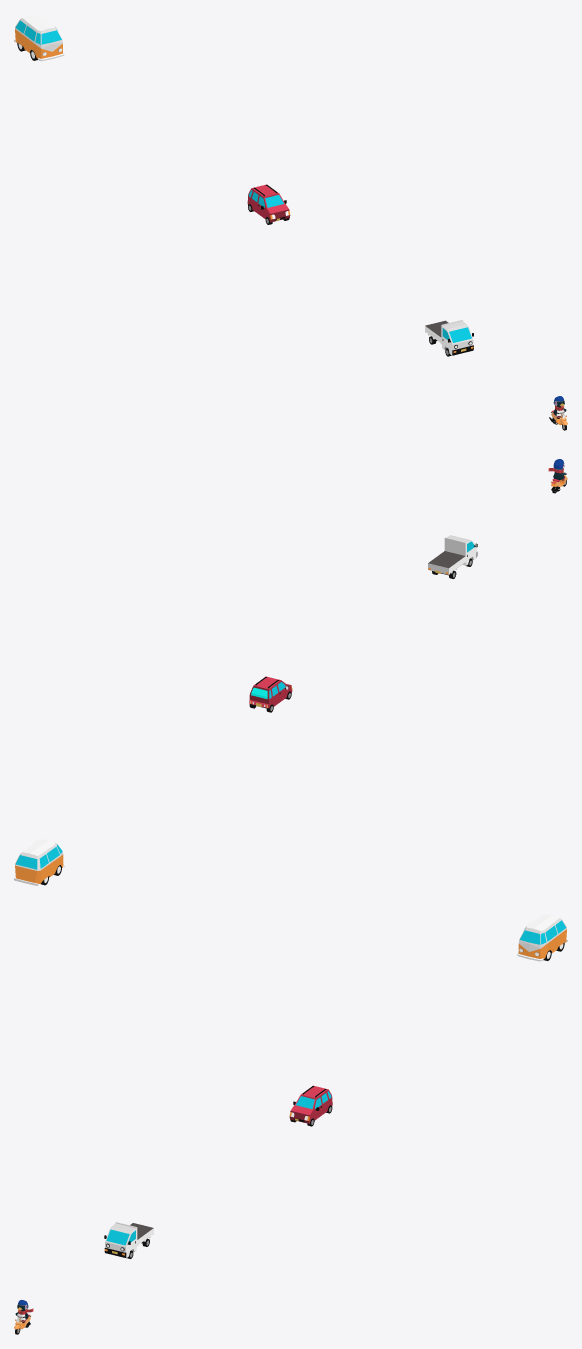
File: cars-static.glb
3 views of the same model, one above another, from view 1: azimuth 30°, elevation 25°; view 2: azimuth 150°, elevation 25°; view 3: azimuth 330°, elevation 25° (orthographic).
Parts seen in each view (by area): view 1: VW Bus.001, Suzuki Carry.001, Wagon R.001; view 2: VW Bus.001, Suzuki Carry.001, Wagon R.001; view 3: VW Bus.001, Suzuki Carry.001, Wagon R.001.
Boxes of the visible parts, bbox=[...] form: VW Bus.001: bbox=[14, 14, 64, 61]; Suzuki Carry.001: bbox=[425, 320, 473, 356]; Wagon R.001: bbox=[247, 184, 290, 224]; VW Bus.001: bbox=[14, 839, 64, 885]; Suzuki Carry.001: bbox=[428, 535, 477, 578]; Wagon R.001: bbox=[249, 676, 292, 712]; VW Bus.001: bbox=[517, 914, 567, 961]; Suzuki Carry.001: bbox=[104, 1222, 153, 1258]; Wagon R.001: bbox=[289, 1085, 332, 1126].
Bounding box in the file's own units: 1.79 × 2.25 × 63.34.
Materials: 6 (6 with a texture image).
